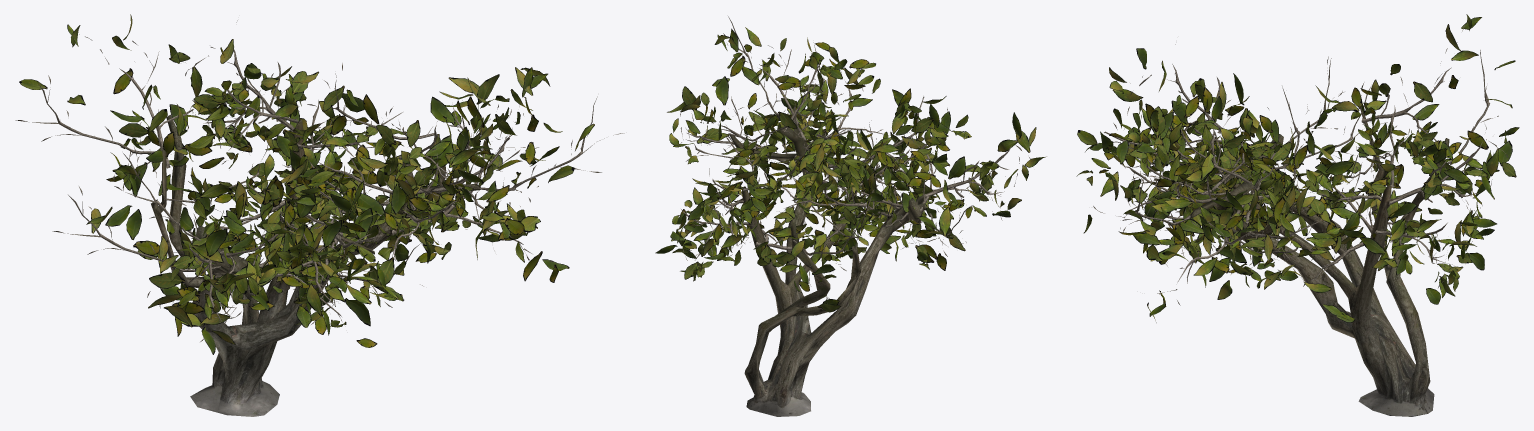
The model's file is island_tree_b.glb.
3 renders of one model, left to right at view 1: azimuth 30°, elevation 25°; view 2: azimuth 150°, elevation 25°; view 3: azimuth 270°, elevation 25°, orthographic. The views are drawn at different scales.
Parts seen in each view (by area): view 1: island_tree_02_LOD0; view 2: island_tree_02_LOD0; view 3: island_tree_02_LOD0.
Boxes of the visible parts, x1=… form: island_tree_02_LOD0: x1=15, y1=14, x2=624, y2=416; island_tree_02_LOD0: x1=655, y1=16, x2=1046, y2=416; island_tree_02_LOD0: x1=1076, y1=14, x2=1519, y2=416.
Size of the model in its own units: 4.21 by 3.44 by 4.04.
Materials: 3 (3 with a texture image).
